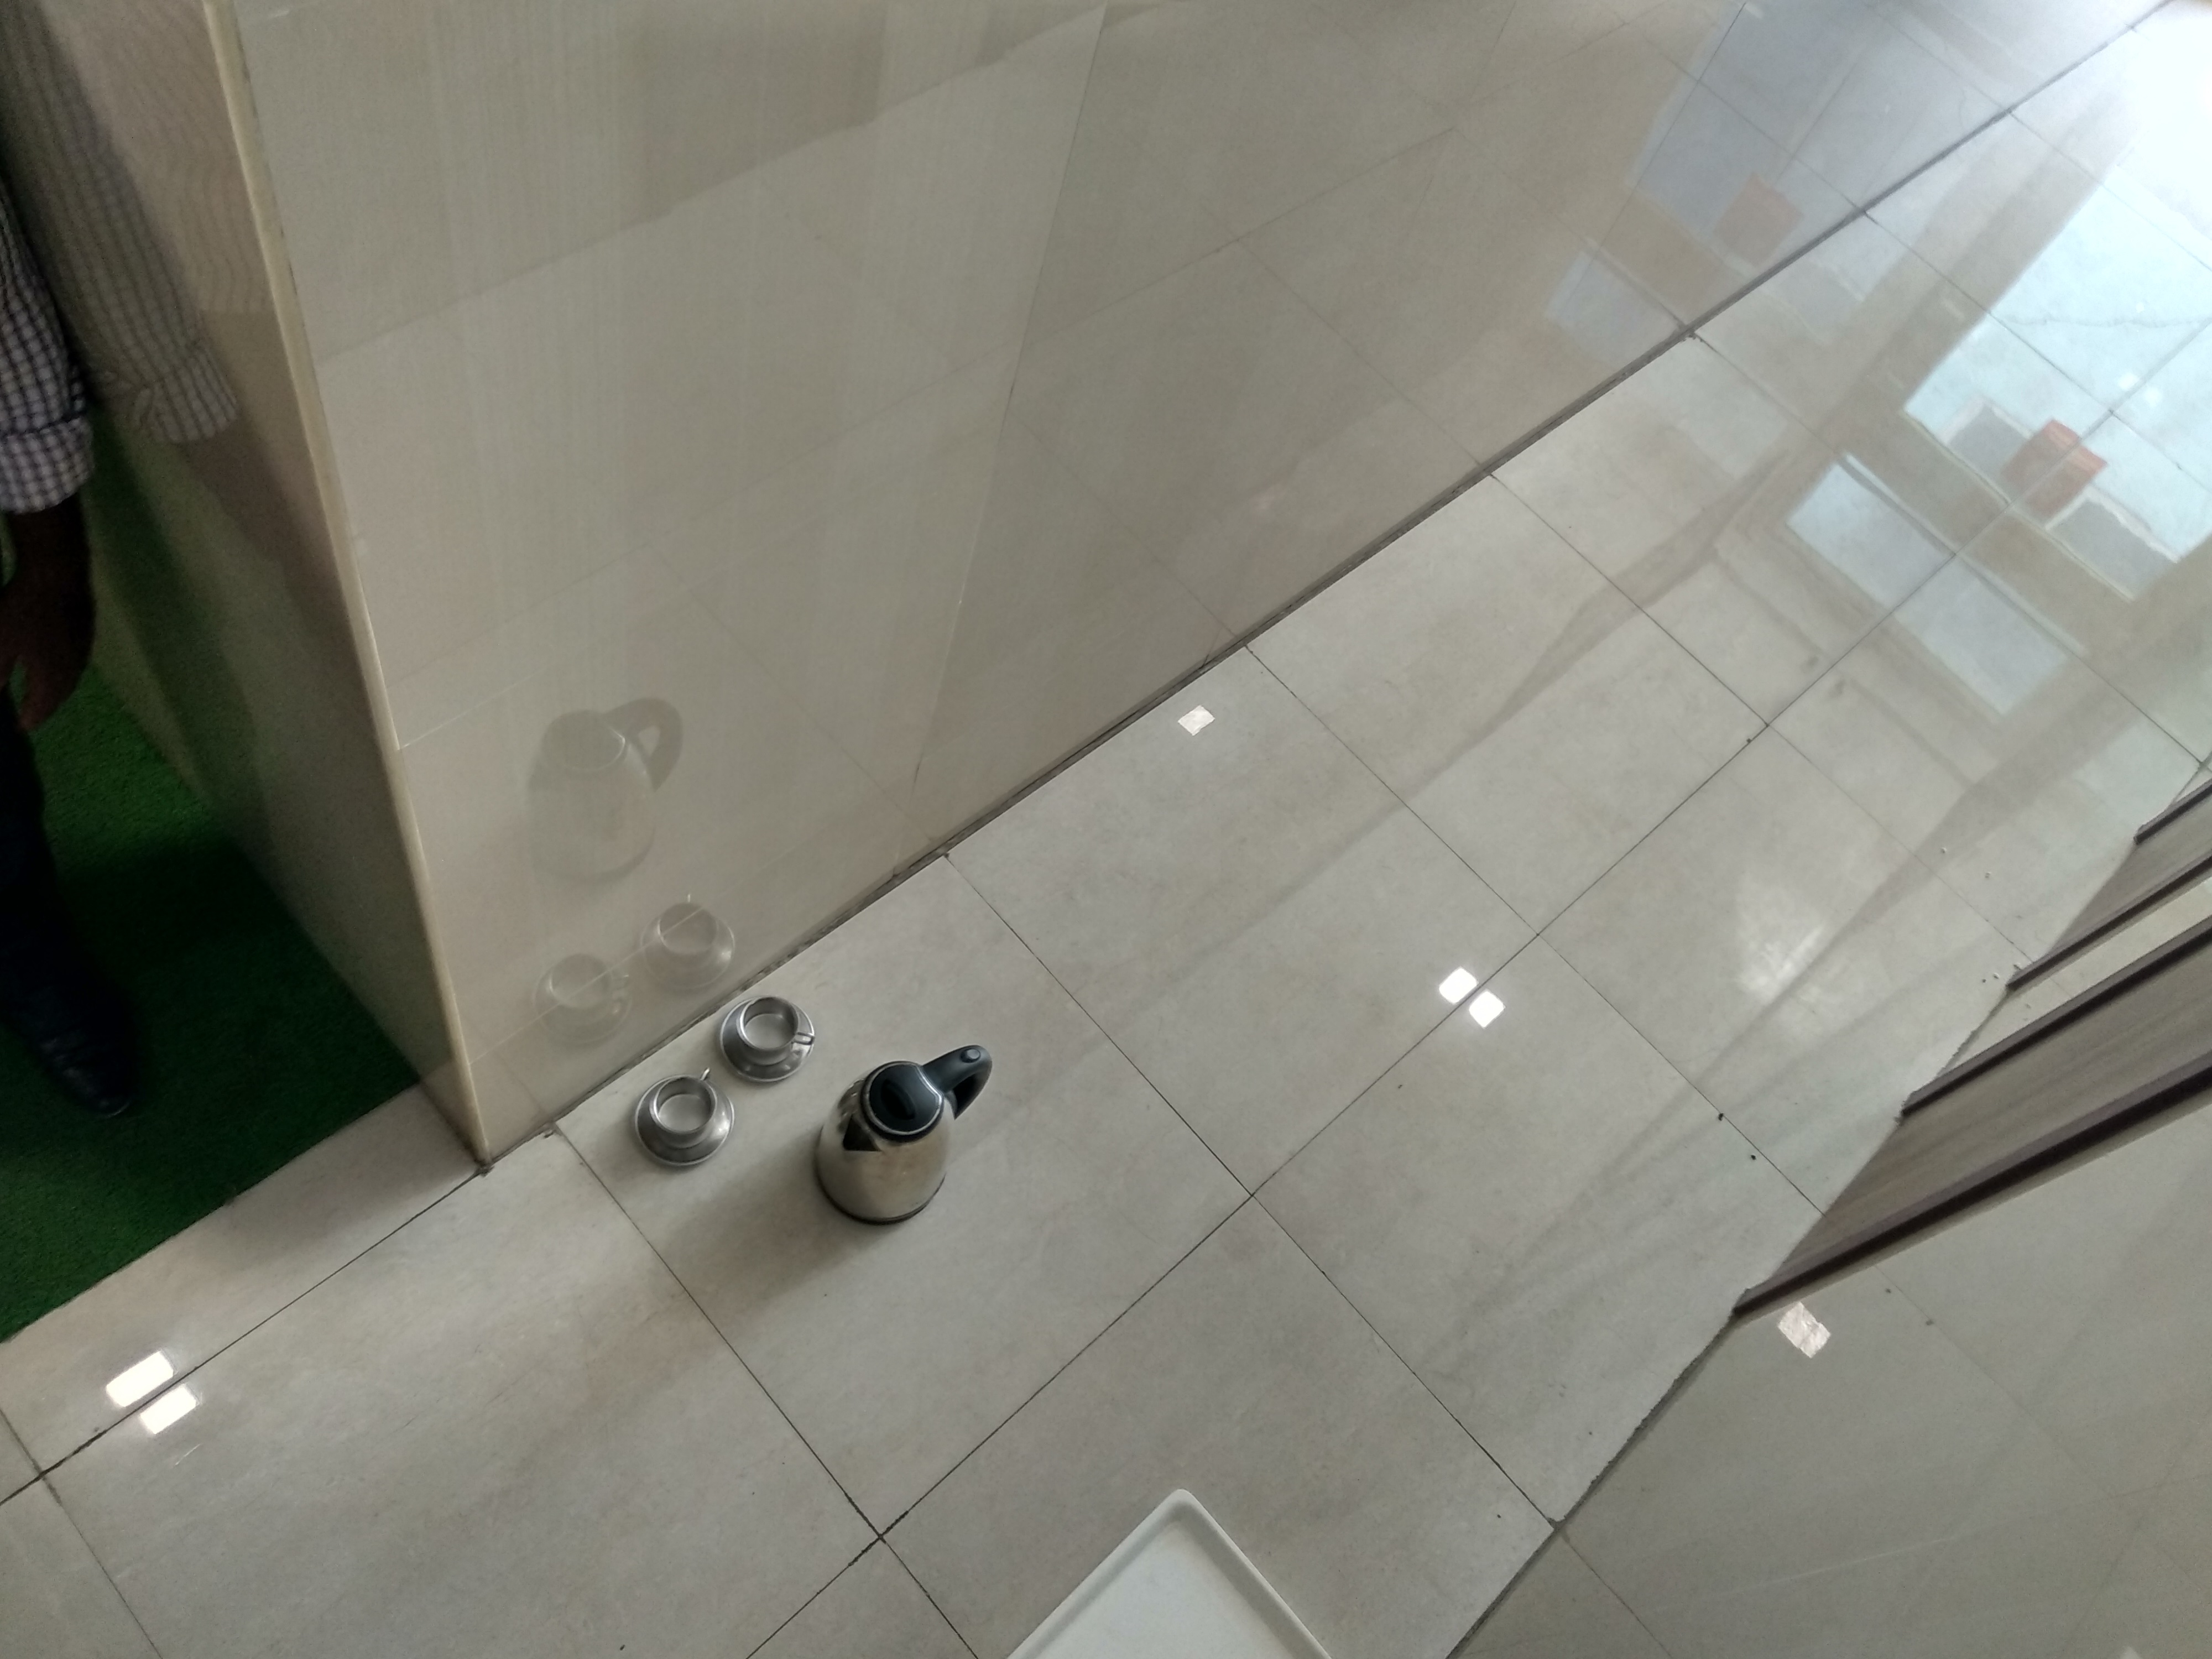CUP: (730, 1000, 815, 1075), (646, 1070, 719, 1154)
JUG: (810, 1037, 991, 1237)
